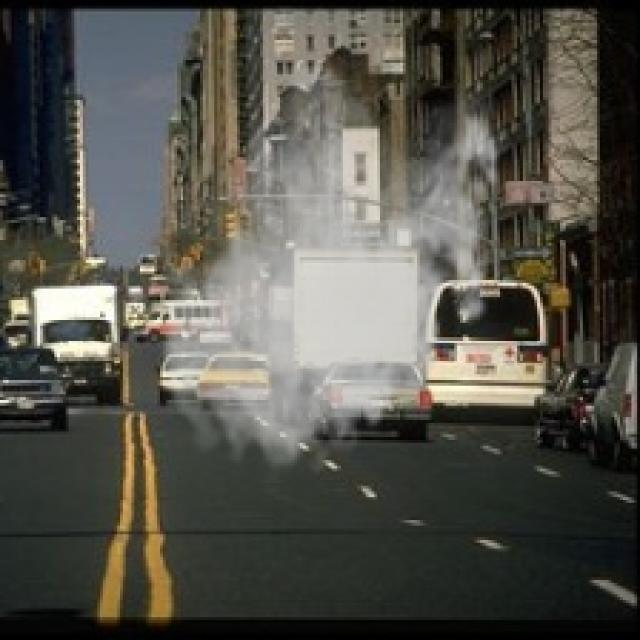Smoke: (154, 63, 512, 483)
